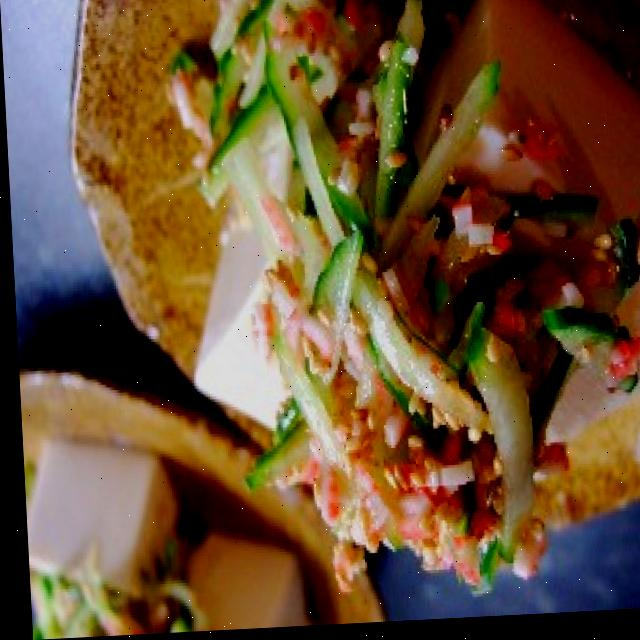豆腐料理: (165, 0, 640, 622)
